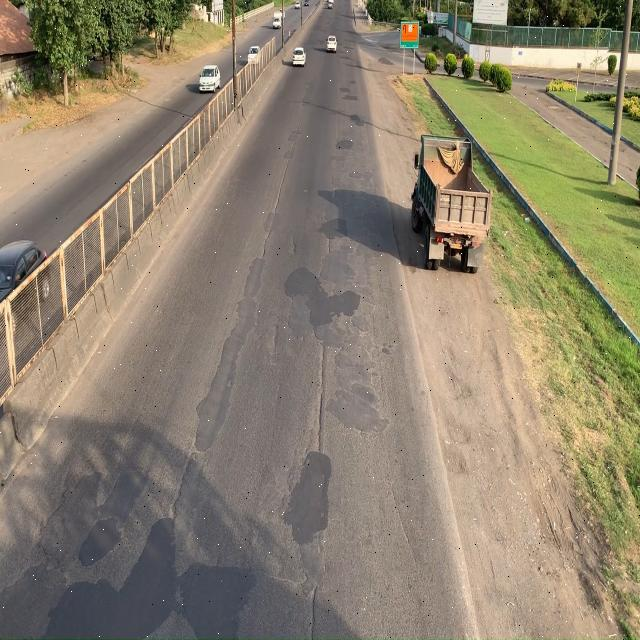Truck: (409, 132, 492, 270)
